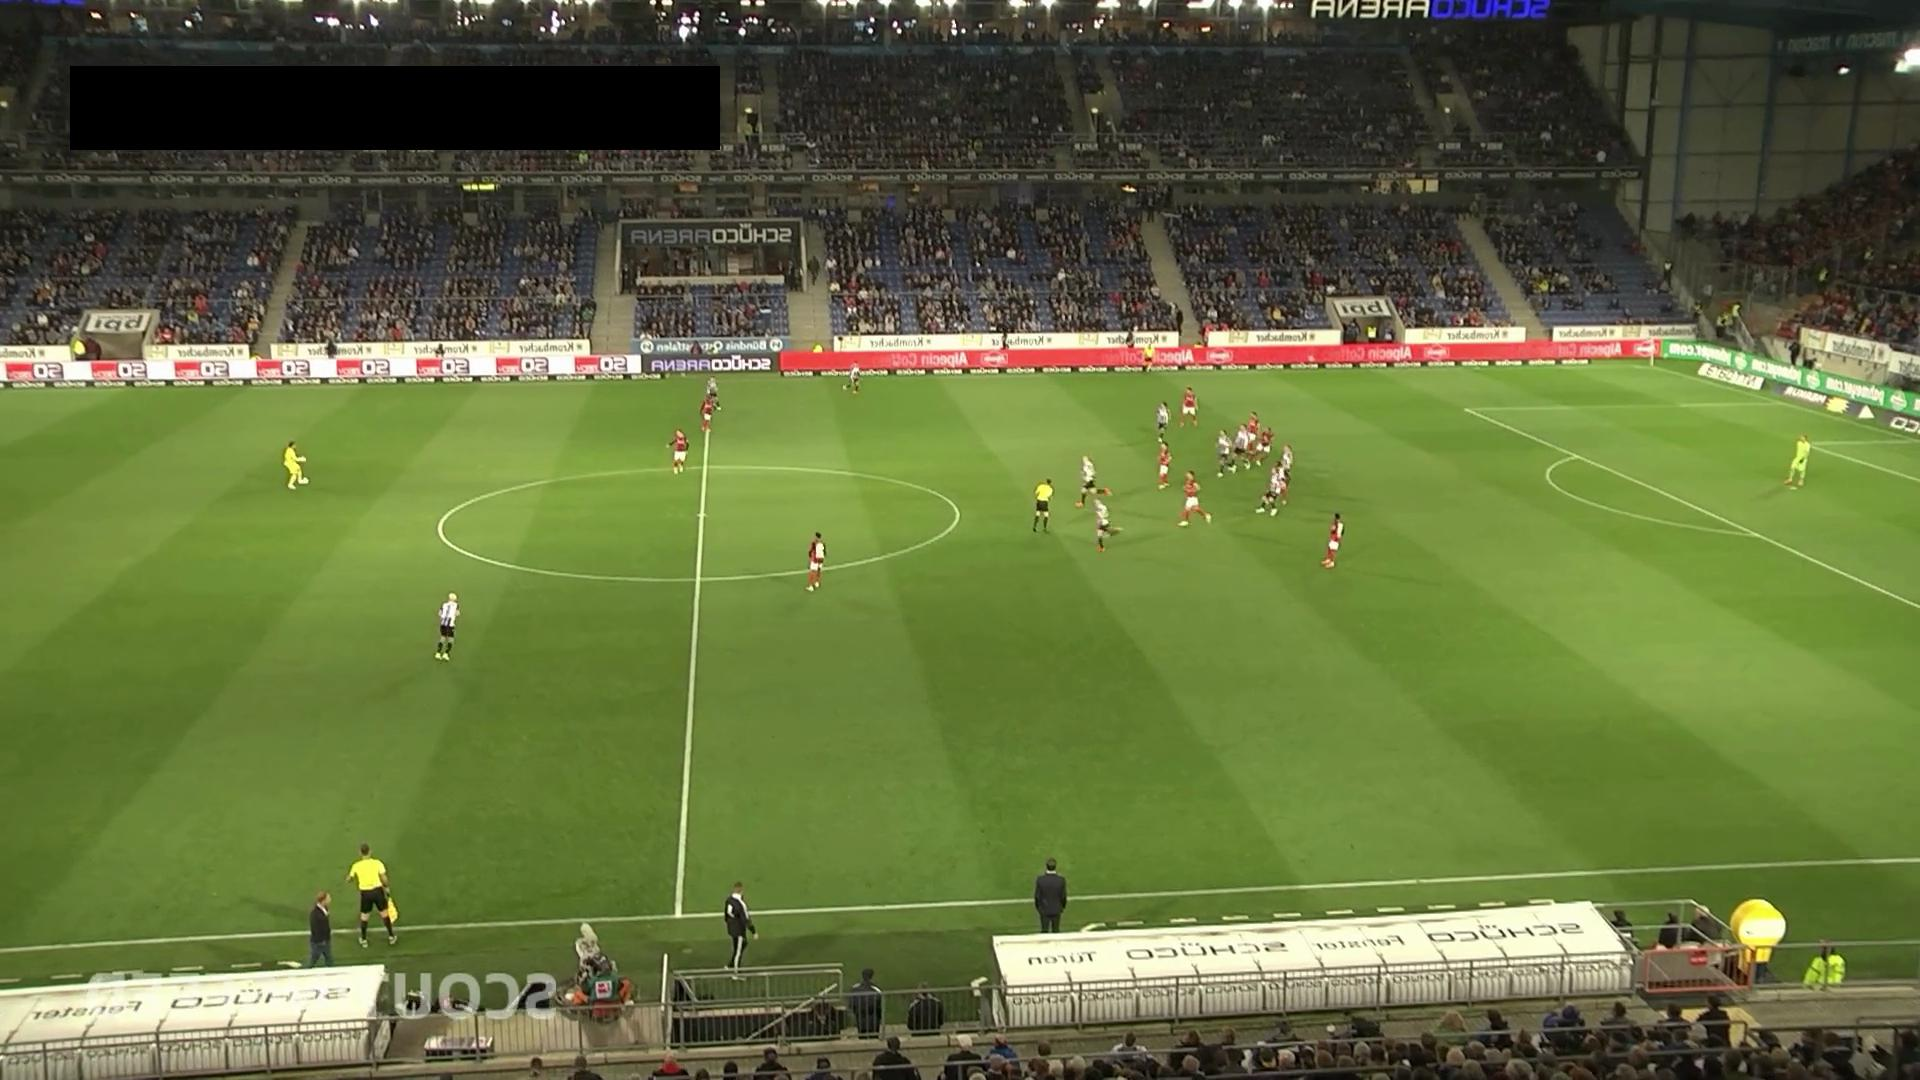ball: (299, 477, 309, 487)
goalkeeper: (1783, 432, 1811, 489), (283, 441, 305, 491)
player: (1176, 470, 1213, 527), (1076, 452, 1110, 507), (435, 591, 461, 661), (1093, 495, 1122, 553), (1319, 512, 1344, 569), (1255, 468, 1281, 518), (805, 532, 826, 592), (666, 428, 690, 475), (1215, 429, 1237, 478), (1230, 424, 1250, 473), (1255, 427, 1276, 468), (1273, 461, 1291, 506), (700, 394, 720, 434), (1153, 400, 1170, 447), (1180, 385, 1198, 429), (1157, 441, 1172, 489), (1244, 410, 1260, 455), (1277, 443, 1294, 485), (841, 363, 862, 396), (705, 374, 721, 413)
referee: (345, 842, 398, 947), (1032, 477, 1054, 533), (1141, 343, 1154, 374)
